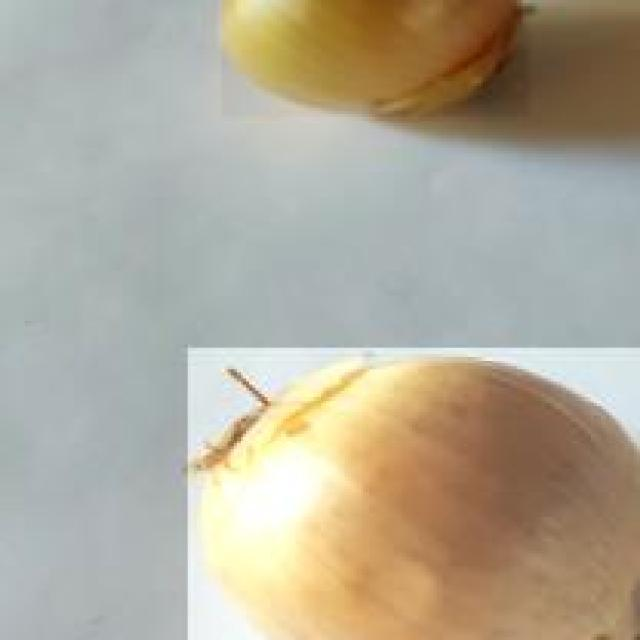onion: (187, 347, 640, 640), (218, 0, 530, 117)
